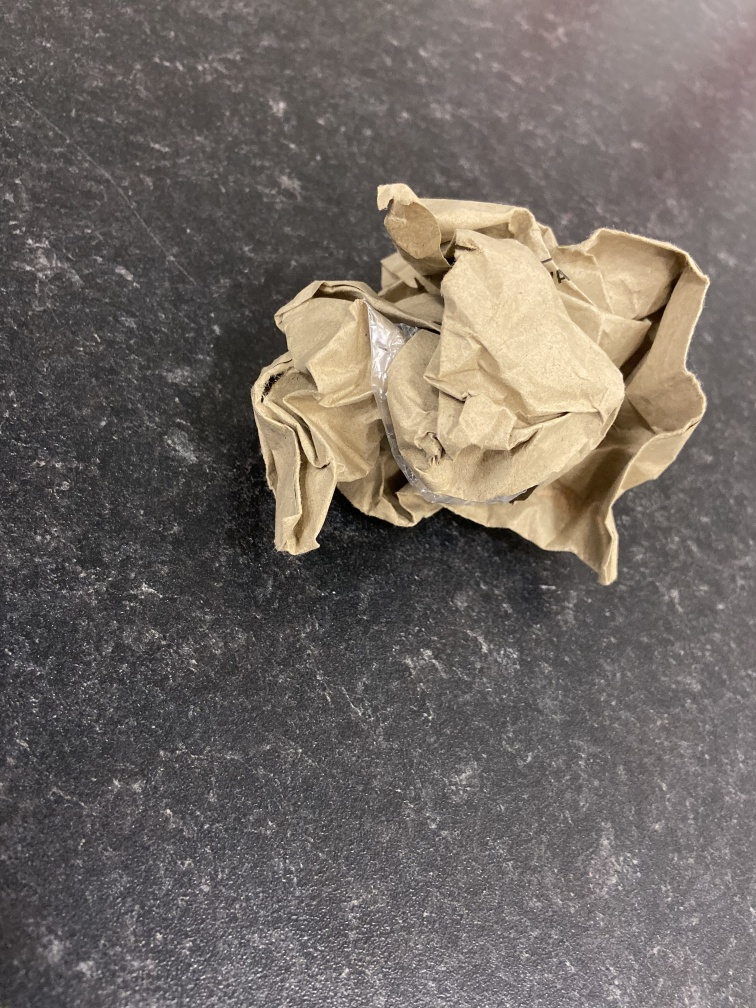paper_brown: (246, 176, 720, 595)
